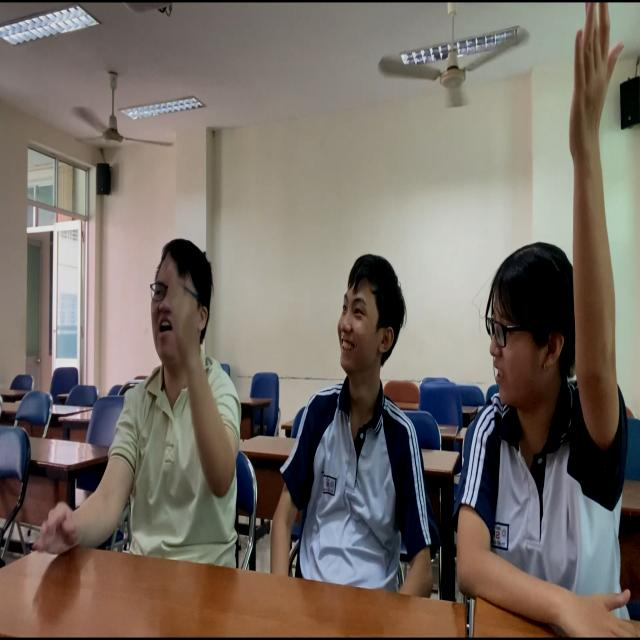raise_hand: (470, 1, 640, 640), (48, 211, 244, 579)
